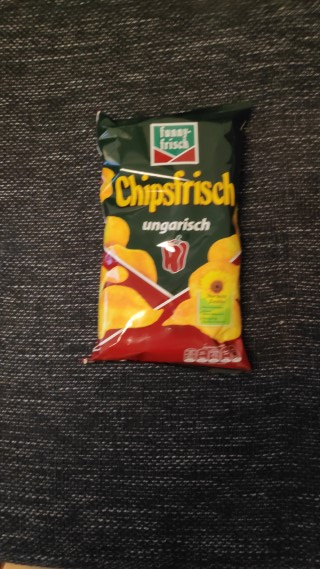chipsfrisch: (80, 98, 258, 375)
